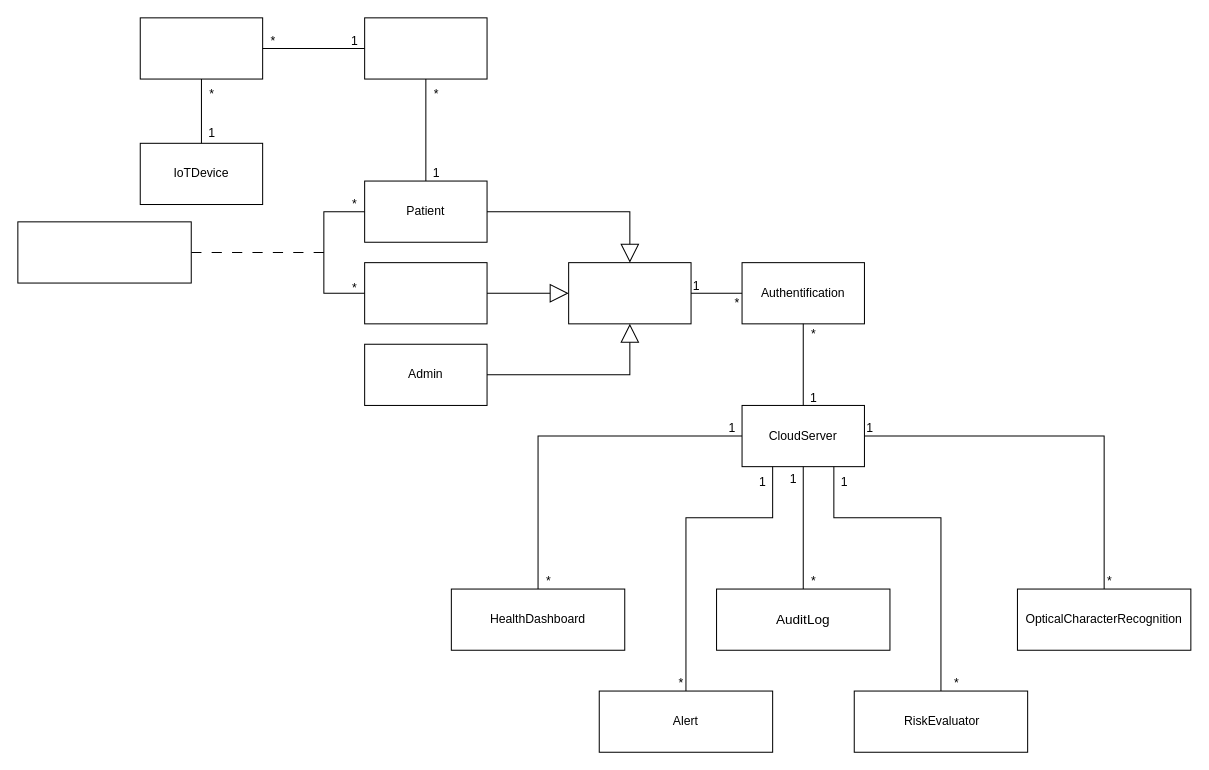
The diagram is 1209 pixels wide and 770 high, and some of its shapes have lost their labels. The box of each missing label's shape, as (x1, y1, x2, y2) in pixels:
Account: (568, 262, 691, 324)
Association_Doctor_Patient: (17, 221, 191, 283)
Doctor: (364, 262, 487, 324)
HealthcareRecord: (364, 17, 487, 79)
VitalSign: (139, 17, 263, 79)
